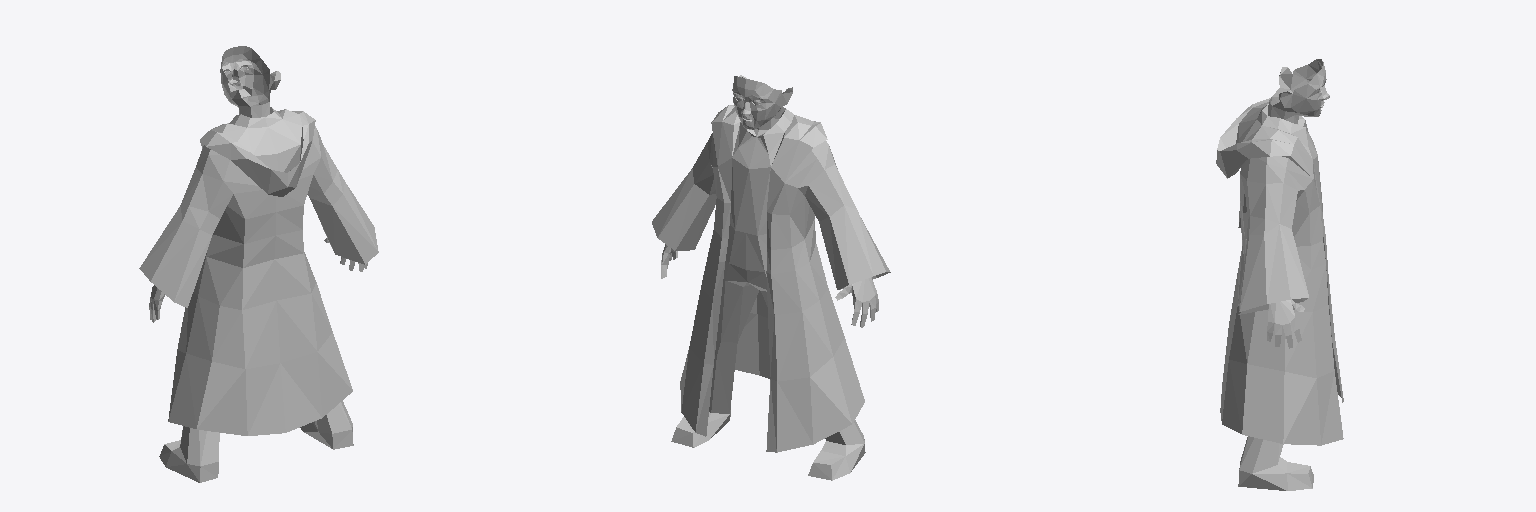
Rendered from GenMale.obj.
The picture shows the model from 3 angles: view 1: azimuth 30°, elevation 25°; view 2: azimuth 150°, elevation 25°; view 3: azimuth 270°, elevation 25°; orthographic projection.
Visible parts, largest first — view 1: material_1, material_0, material_2, material_3, material_6; view 2: material_1, material_0, material_2, material_3, material_6; view 3: material_1, material_0, material_2, material_3, material_6.
Part boxes in pixels (bbox=[...]): material_1: bbox=[168, 252, 352, 435]; material_0: bbox=[139, 109, 378, 307]; material_2: bbox=[159, 107, 353, 482]; material_3: bbox=[220, 46, 280, 117]; material_6: bbox=[149, 238, 367, 322]; material_1: bbox=[680, 244, 864, 452]; material_0: bbox=[652, 105, 890, 289]; material_2: bbox=[671, 107, 865, 480]; material_3: bbox=[732, 75, 792, 136]; material_6: bbox=[661, 244, 878, 327]; material_1: bbox=[1220, 237, 1343, 445]; material_0: bbox=[1216, 98, 1325, 314]; material_2: bbox=[1238, 104, 1322, 490]; material_3: bbox=[1268, 59, 1329, 124]; material_6: bbox=[1267, 299, 1304, 348].
Bounding box in the file's own units: 80.96 × 133 × 39.88.